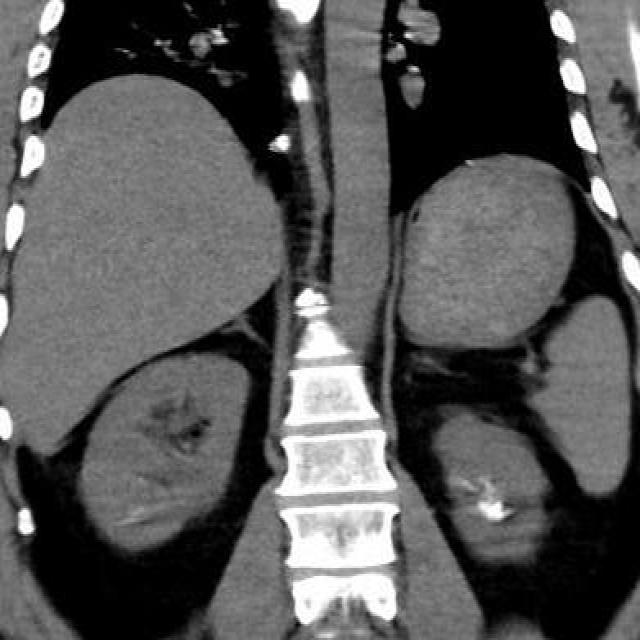Tas_Var: (477, 499, 507, 521), (494, 512, 508, 522)
